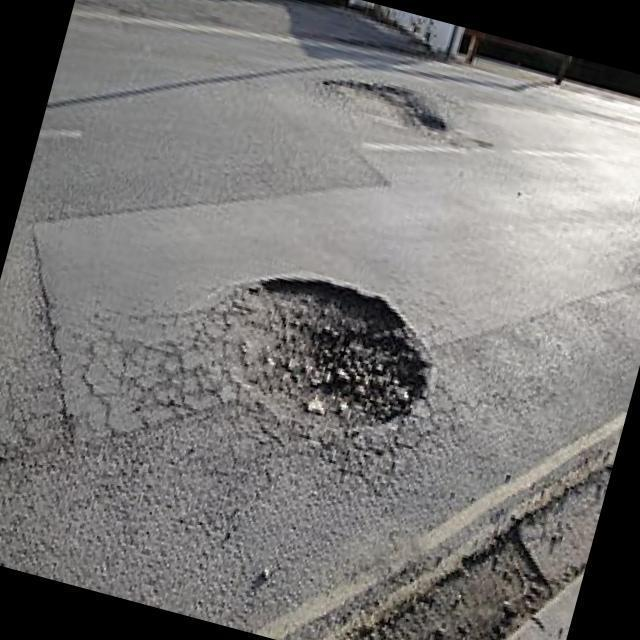Pothole: (240, 274, 434, 460)
